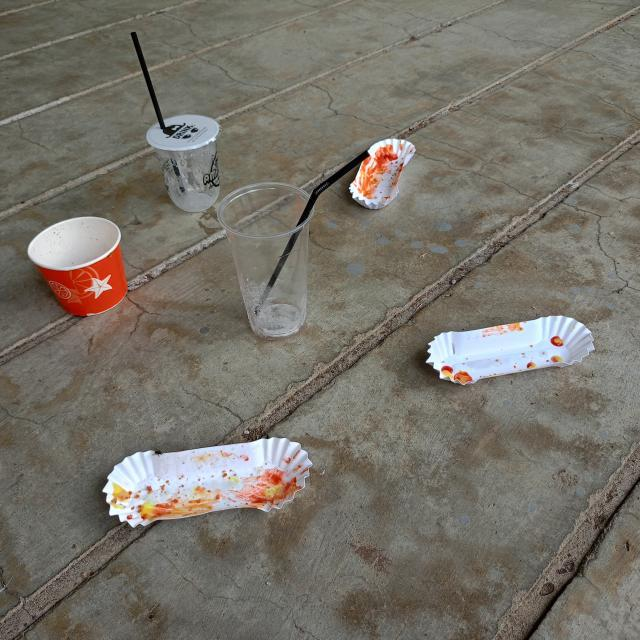recyclable waste: (94, 428, 322, 537), (210, 172, 323, 342), (418, 306, 602, 395), (22, 206, 140, 326), (137, 106, 230, 217), (339, 130, 424, 214)
